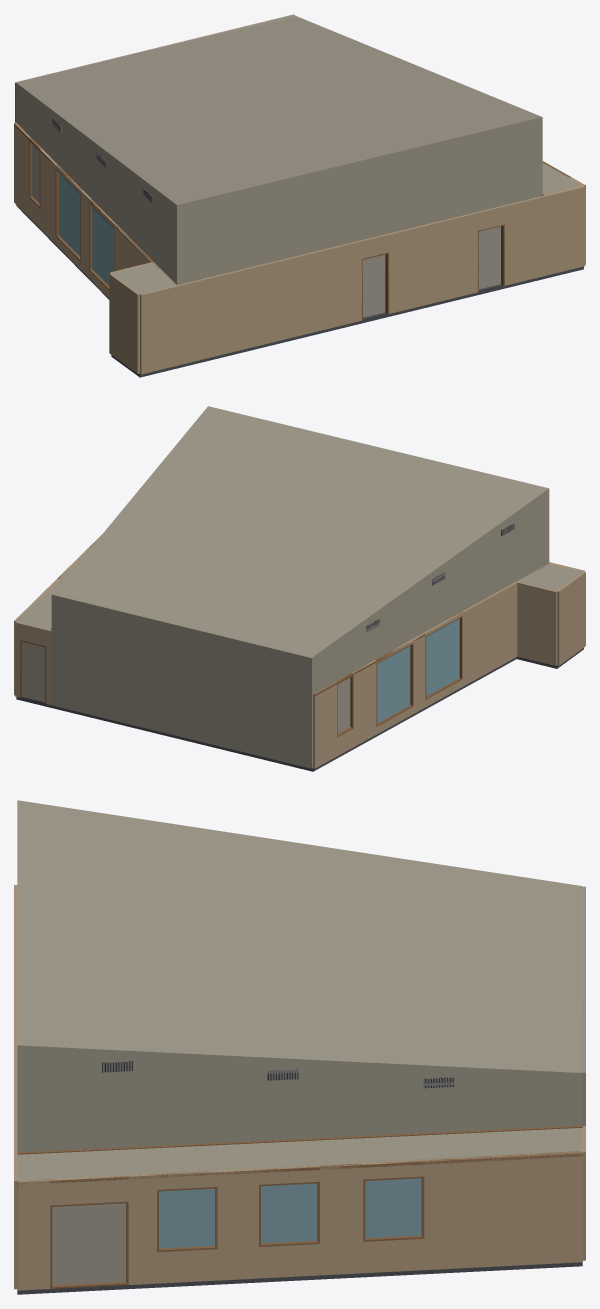
The model's file is room-review.glb.
3 renders of one model, top to bottom at view 1: azimuth 30°, elevation 25°; view 2: azimuth 150°, elevation 25°; view 3: azimuth 270°, elevation 25°, orthographic. The views are drawn at different scales.
Parts seen in each view (by area): view 1: Ceiling_Main, Wall_Upper_Front, Wall_Door_Front_Pier, Wall_Upper_west, Wall_Door_FrontEast_Pier, Wall_Front_End, Wall_WorkArea, Floor_ScanFootprint, Window_West_2_Infill, Door_Front, Window_West_1_Infill, Wall_Door_West_Rear_Pier (+10 smaller); view 2: Ceiling_Main, Wall_Rear, Wall_Upper_west, Wall_Window_West_1_Pier, Wall_WorkArea_Return, Wall_WorkArea, Window_West_2_Infill, Window_West_1_Infill, Wall_west_End, Wall_Door_West_Rear_Pier, Floor_ScanFootprint, Door_Rear_Aisle (+5 smaller); view 3: Ceiling_Main, Wall_Upper_east, Wall_east_outer_End, Ceiling_East, Door_East_Front_Infill, Wall_Window_East_3_Pier, Wall_Window_East_2_Pier, Wall_Door_East_Front_Pier, Window_East_2_Infill, Window_East_3_Infill, Window_East_1_Infill, Wall_Window_East_1_Pier (+12 smaller).
Part boxes in pixels (x1,y1,x2,y2): Ceiling_Main: [16, 16, 541, 204]; Wall_Upper_Front: [177, 117, 542, 284]; Wall_Door_Front_Pier: [139, 240, 362, 374]; Wall_Upper_west: [16, 83, 176, 284]; Wall_Door_FrontEast_Pier: [388, 212, 478, 313]; Wall_Front_End: [503, 185, 585, 285]; Wall_WorkArea: [109, 273, 139, 373]; Floor_ScanFootprint: [16, 205, 583, 377]; Window_West_2_Infill: [59, 173, 80, 256]; Door_Front: [363, 254, 385, 317]; Window_West_1_Infill: [92, 207, 113, 285]; Wall_Door_West_Rear_Pier: [40, 149, 57, 243]; Ceiling_Main: [54, 406, 548, 656]; Wall_Rear: [51, 593, 313, 768]; Wall_Upper_west: [313, 489, 549, 693]; Wall_Window_West_1_Pier: [461, 581, 517, 686]; Wall_WorkArea_Return: [517, 582, 557, 665]; Wall_WorkArea: [555, 571, 585, 665]; Window_West_2_Infill: [377, 646, 410, 723]; Window_West_1_Infill: [426, 619, 459, 695]; Wall_west_End: [313, 682, 337, 768]; Wall_Door_West_Rear_Pier: [352, 660, 376, 746]; Floor_ScanFootprint: [16, 648, 583, 771]; Door_Rear_Aisle: [22, 642, 44, 702]; Ceiling_Main: [17, 800, 582, 1072]; Wall_Upper_east: [17, 1045, 582, 1152]; Wall_east_outer_End: [424, 1151, 582, 1270]; Ceiling_East: [17, 1127, 582, 1180]; Door_East_Front_Infill: [52, 1203, 125, 1285]; Wall_Window_East_3_Pier: [320, 1163, 363, 1275]; Wall_Window_East_2_Pier: [217, 1167, 258, 1280]; Wall_Door_East_Front_Pier: [17, 1179, 50, 1290]; Window_East_2_Infill: [261, 1183, 317, 1243]; Window_East_3_Infill: [365, 1178, 421, 1238]; Window_East_1_Infill: [159, 1188, 215, 1248]; Wall_Window_East_1_Pier: [128, 1174, 156, 1284].
Size of the model in its own units: 16.27 by 5.67 by 13.16.
22 materials, 6 textured.
